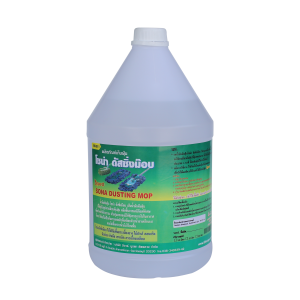Cleaning_solution: (83, 25, 215, 281)
